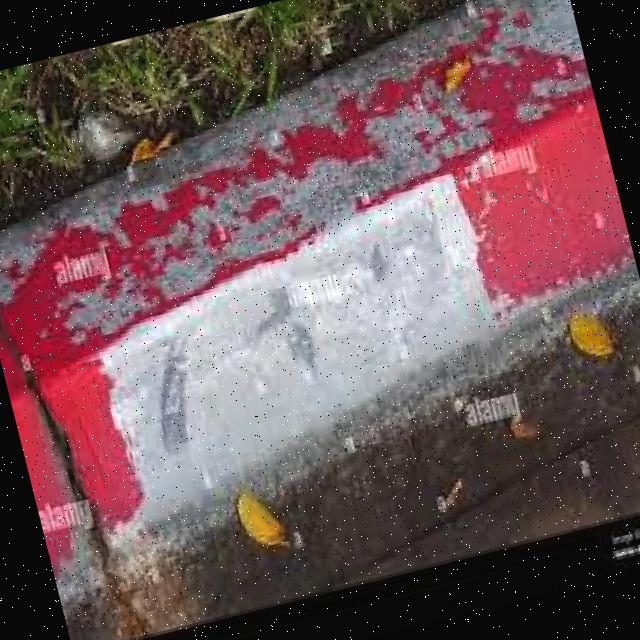curb: (1, 1, 640, 585)
